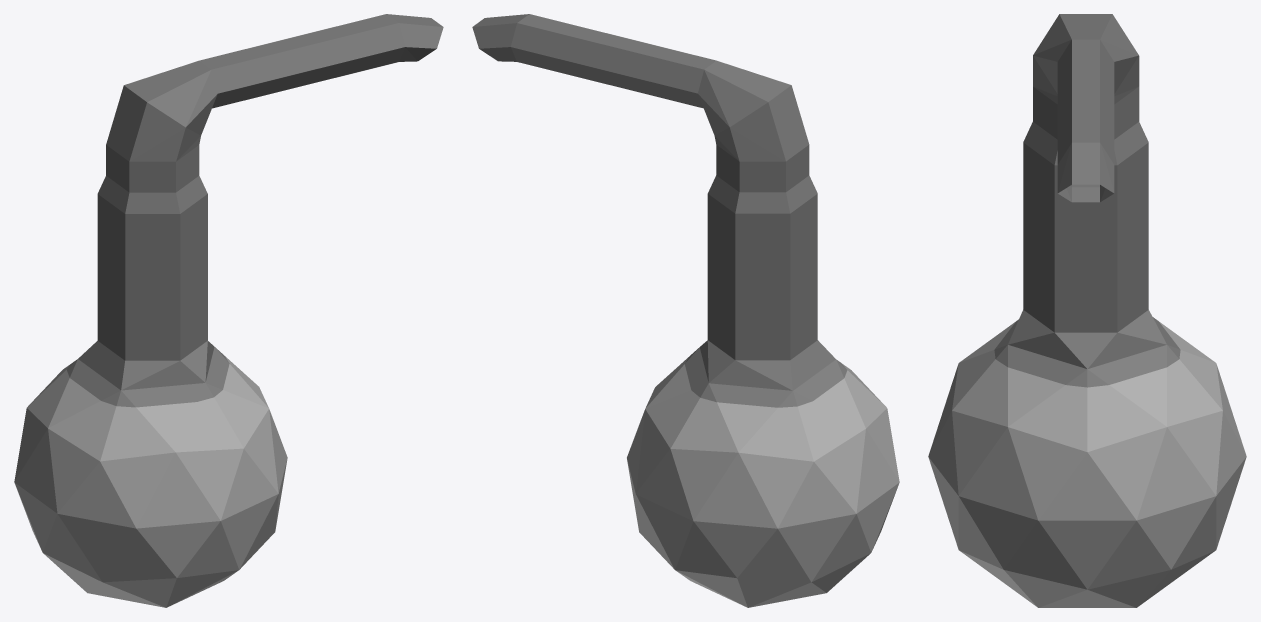
The model's file is alchemist_aparatus_749x00.gltf.
The picture shows the model from 3 angles, left to right: view 1: azimuth 30°, elevation 25°; view 2: azimuth 150°, elevation 25°; view 3: azimuth 270°, elevation 25°; orthographic projection. The views are drawn at different scales.
Parts seen in each view (by area): view 1: alchemist_aparatus_749x00; view 2: alchemist_aparatus_749x00; view 3: alchemist_aparatus_749x00.
Part boxes in pixels (x1,y1,x2,y2): alchemist_aparatus_749x00: [14, 14, 443, 607]; alchemist_aparatus_749x00: [472, 14, 899, 607]; alchemist_aparatus_749x00: [928, 14, 1246, 607].
Size of the model in its own units: 0.8656 by 1.07 by 0.5225.
2 materials, 2 textured.
